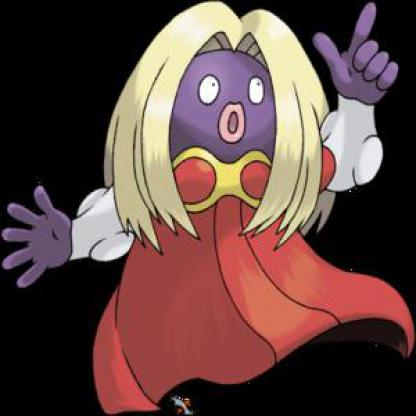Jynx: (4, 10, 416, 416)
